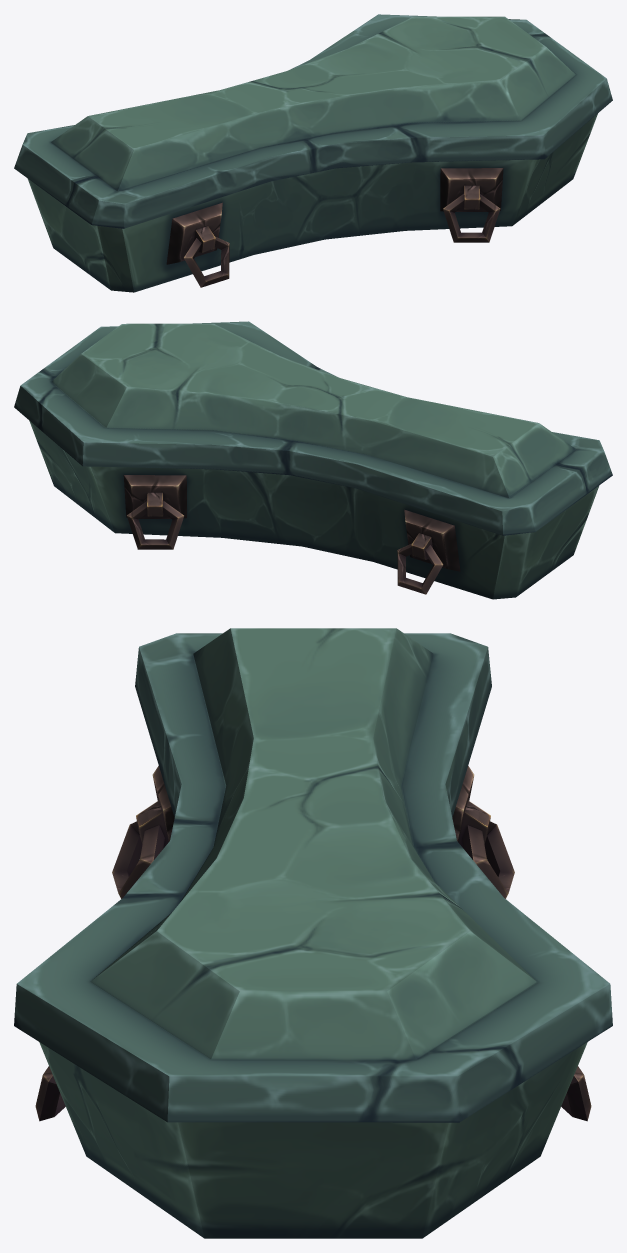
File: coffin.FBX
The picture shows the model from 3 angles, top to bottom: view 1: azimuth 30°, elevation 25°; view 2: azimuth 150°, elevation 25°; view 3: azimuth 270°, elevation 25°; orthographic projection. The views are drawn at different scales.
Visible parts, largest first — view 1: coffin_top, coffin_base; view 2: coffin_top, coffin_base; view 3: coffin_top, coffin_base.
Part boxes in pixels (left/top/right/bottom): coffin_top: left=14, top=14, right=612, bottom=228; coffin_base: left=28, top=113, right=597, bottom=292; coffin_top: left=14, top=321, right=612, bottom=535; coffin_base: left=29, top=421, right=598, bottom=599; coffin_top: left=14, top=628, right=612, bottom=1122; coffin_base: left=35, top=765, right=591, bottom=1238.
Bounding box in the file's own units: 33.85 × 8.05 × 18.82.
